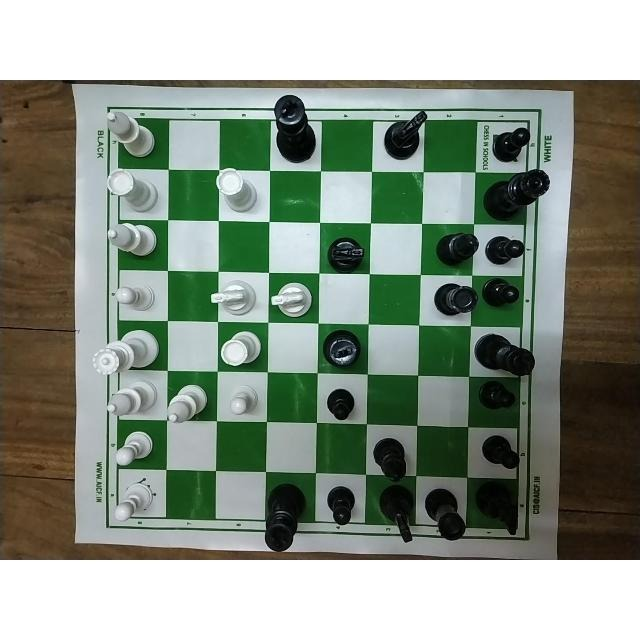black-bishop: (371, 433, 409, 482), (433, 231, 480, 265)
black-king: (263, 483, 306, 550), (473, 332, 537, 376), (273, 95, 314, 163), (322, 330, 362, 366)
black-knight: (473, 480, 518, 536), (377, 484, 417, 546), (383, 109, 427, 159), (327, 236, 367, 275)
black-pawn: (490, 126, 529, 162), (479, 435, 520, 469), (484, 233, 526, 265), (324, 483, 356, 524), (481, 277, 520, 309), (476, 380, 515, 412), (326, 387, 354, 422)
black-queen: (482, 168, 549, 219)
black-rook: (424, 487, 468, 541), (431, 281, 477, 317)
white-bishop: (105, 110, 155, 162), (106, 378, 158, 417), (106, 222, 159, 260), (167, 383, 207, 424)
white-knight: (268, 279, 313, 320), (207, 280, 256, 316)
white-pawn: (112, 481, 153, 522), (108, 430, 152, 468), (112, 281, 153, 313), (226, 384, 258, 416)
white-queen: (90, 328, 162, 373)
white-rook: (103, 168, 160, 215), (213, 168, 257, 212), (219, 327, 263, 366)
